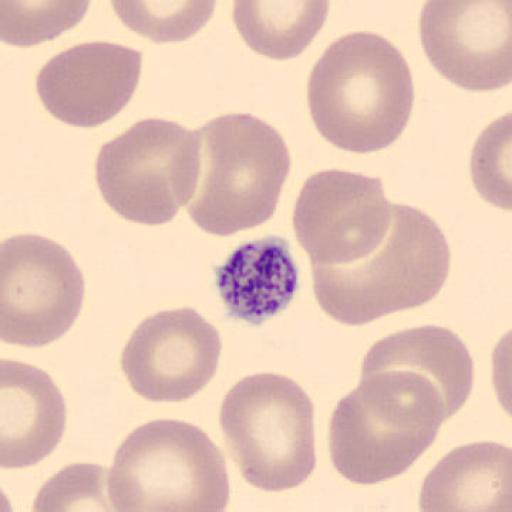Platelet: (211, 232, 302, 327)
RBC: (305, 202, 452, 327), (304, 30, 416, 155), (184, 110, 292, 238), (93, 115, 203, 231), (326, 376, 442, 486), (216, 370, 317, 495), (356, 322, 476, 424), (108, 416, 232, 512), (120, 306, 224, 406), (1, 231, 87, 349), (292, 166, 392, 266), (35, 39, 144, 130), (416, 0, 512, 93), (2, 358, 68, 470), (418, 438, 512, 512), (230, 0, 332, 62), (30, 460, 126, 512), (108, 0, 221, 44), (468, 108, 512, 214), (1, 0, 94, 48), (490, 324, 512, 424)
